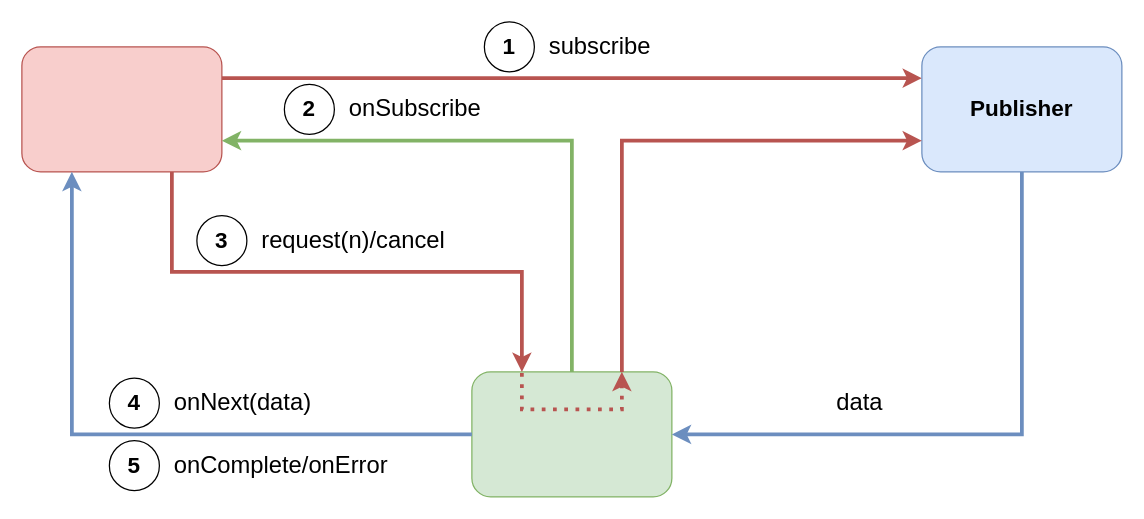
Image size: 1144x519. Some labels were removed from this diagram. Each missing label, with the centre of its shape:
"Subscriber" goes at point (121, 109).
"Subscription" goes at point (571, 434).
